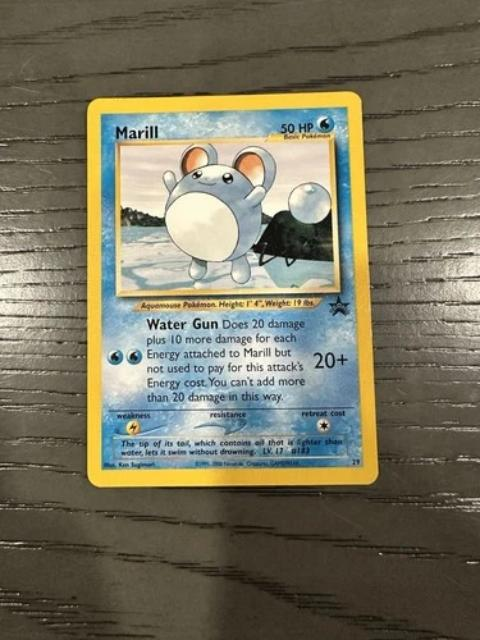Card: (79, 87, 379, 488)
Name: (109, 119, 160, 143)
